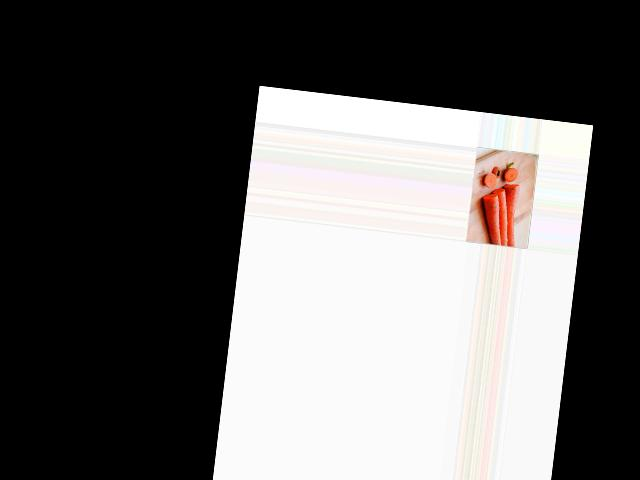carrot: (477, 186, 504, 246)
